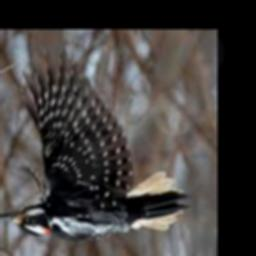Woodpecker: (0, 53, 189, 242)
